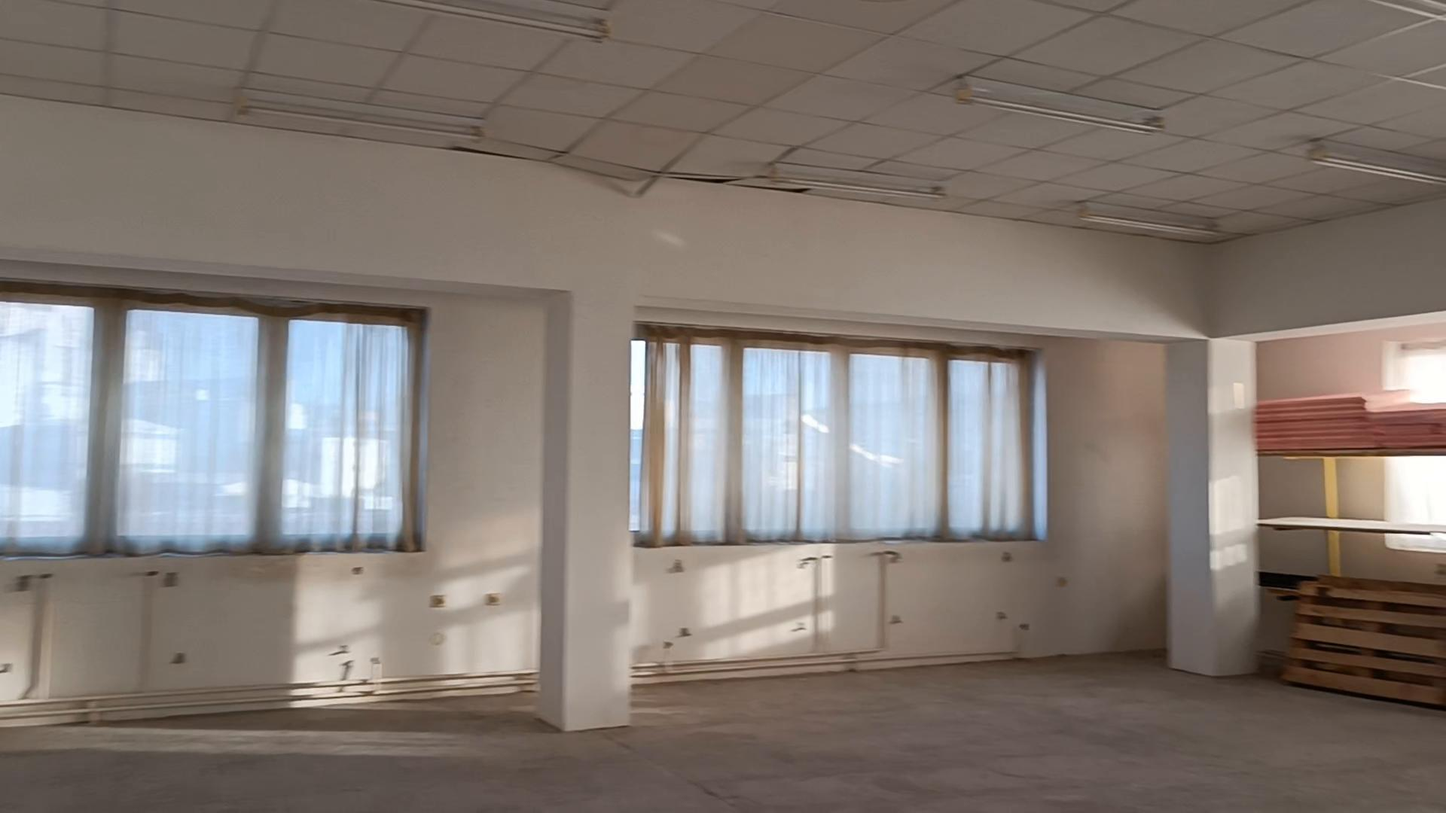ceiling: (0, 0, 1445, 240)
floor: (0, 656, 1445, 812)
wall: (15, 102, 1443, 726), (0, 119, 624, 693)
